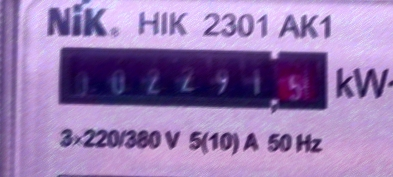0: (72, 66, 91, 96), (110, 66, 127, 95)
1: (249, 64, 264, 98)
2: (145, 66, 162, 95), (180, 64, 195, 93)
5: (287, 71, 304, 101)
9: (214, 66, 231, 96)
screen: (55, 40, 333, 118)
